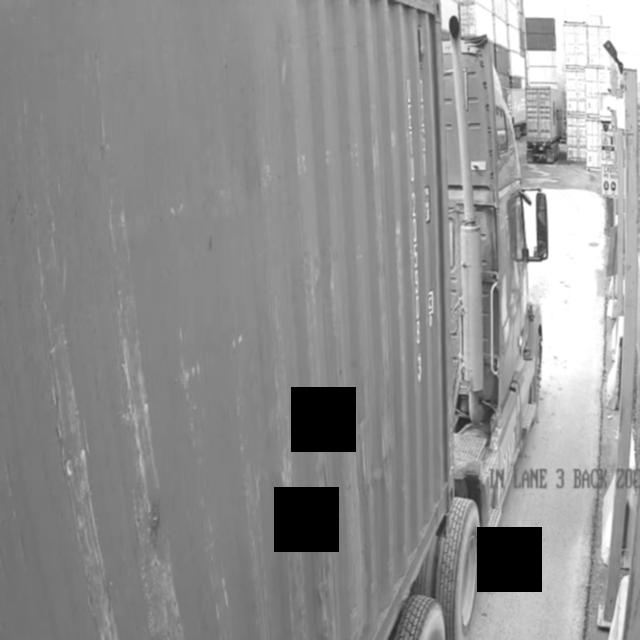container_side_no: (401, 67, 432, 397)
truck_with_container: (0, 0, 550, 640)
